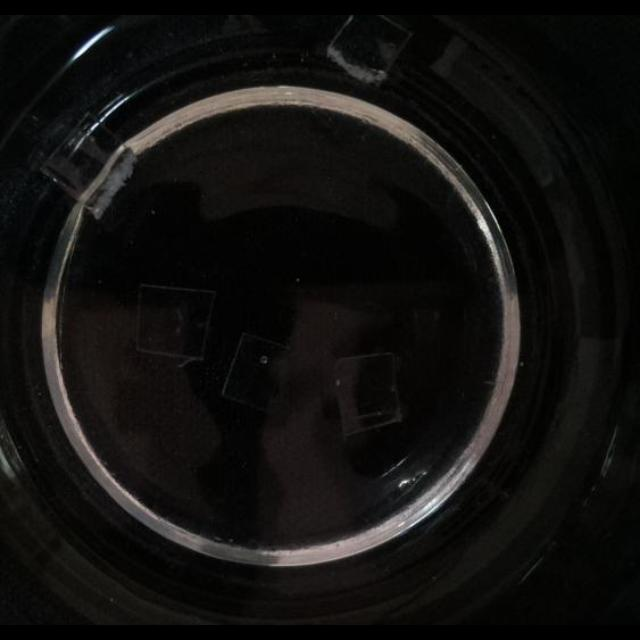Film: (41, 115, 131, 211), (132, 283, 216, 362), (328, 15, 416, 86), (334, 350, 406, 436), (222, 332, 290, 411)
